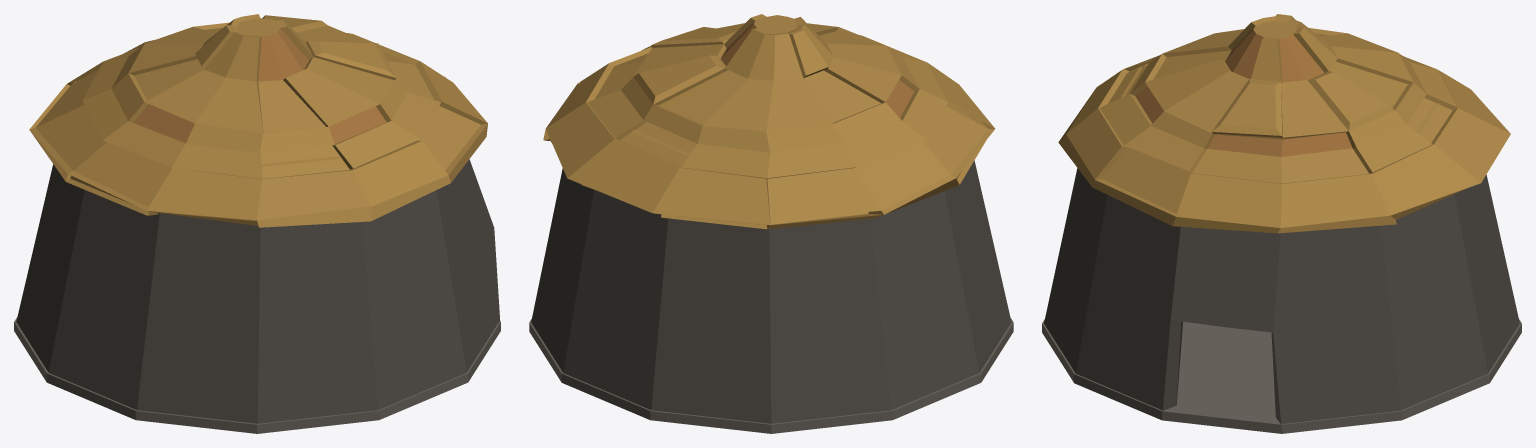
The model's file is snow_people_house_04.fbx.
3 renders of one model, left to right at view 1: azimuth 30°, elevation 25°; view 2: azimuth 150°, elevation 25°; view 3: azimuth 270°, elevation 25°, orthographic.
Parts seen in each view (by area): view 1: Cylinder.001, Cylinder.003, Cylinder.002; view 2: Cylinder.001, Cylinder.003, Cylinder.002; view 3: Cylinder.001, Cylinder.003, Cylinder.002.
Boxes of the visible parts, x1,y1,x2,y2 form: Cylinder.001: (16,159,500,423); Cylinder.003: (29,14,487,227); Cylinder.002: (14,317,500,433); Cylinder.001: (531,160,1011,423); Cylinder.003: (543,14,994,229); Cylinder.002: (529,318,1013,433); Cylinder.001: (1044,168,1519,424); Cylinder.003: (1058,14,1510,233); Cylinder.002: (1042,319,1521,433).
Size of the model in its own units: 382 by 268 by 382.
